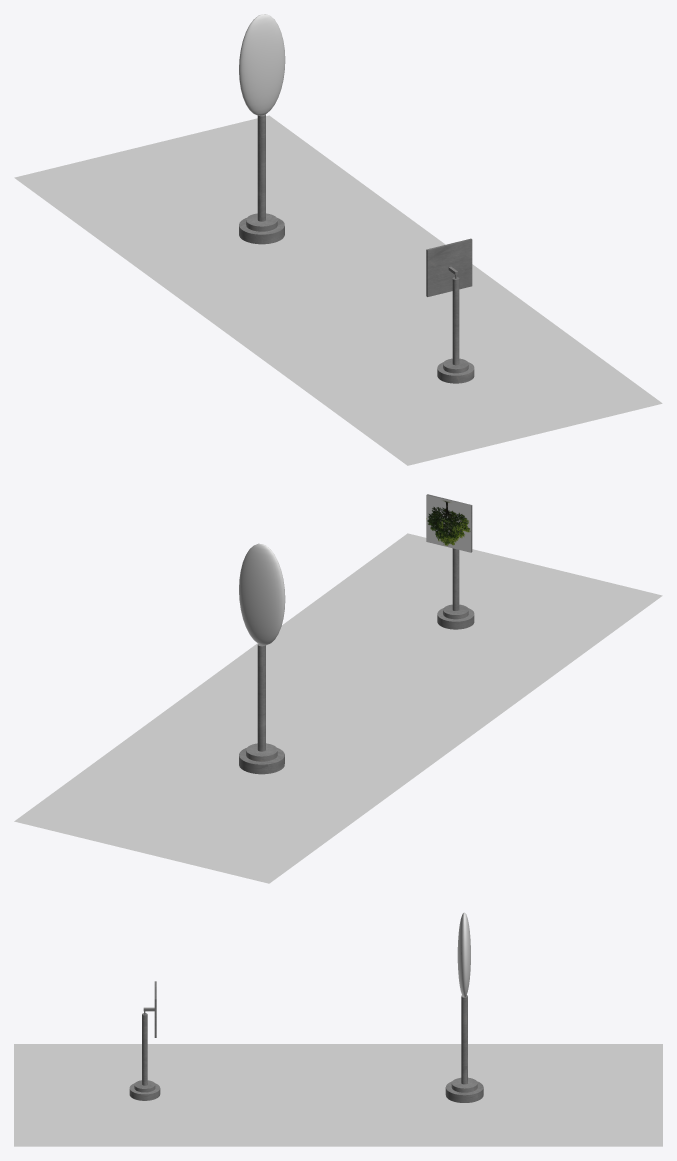
The model's file is convex_lens_manual_focal length.fbx.
3 renders of one model, top to bottom at view 1: azimuth 30°, elevation 25°; view 2: azimuth 150°, elevation 25°; view 3: azimuth 270°, elevation 25°, orthographic. The views are drawn at different scales.
Parts seen in each view (by area): view 1: Plane, Sphere.001, Cylinder, Cylinder.001; view 2: Plane, Sphere.001, Cylinder, Cylinder.001; view 3: Plane, Cylinder.001, Cylinder, Sphere.001.
Boxes of the visible parts, x1,y1,x2,y2 form: Plane: [14, 115, 662, 465]; Sphere.001: [239, 14, 285, 115]; Cylinder: [426, 238, 474, 383]; Cylinder.001: [239, 114, 284, 244]; Plane: [14, 533, 662, 883]; Sphere.001: [239, 543, 285, 645]; Cylinder: [426, 494, 474, 629]; Cylinder.001: [239, 644, 284, 774]; Plane: [14, 1044, 662, 1146]; Cylinder.001: [445, 995, 483, 1102]; Cylinder: [129, 981, 160, 1100]; Sphere.001: [457, 912, 470, 997].
Bounding box in the file's own units: 3968 × 3275 × 10599.
